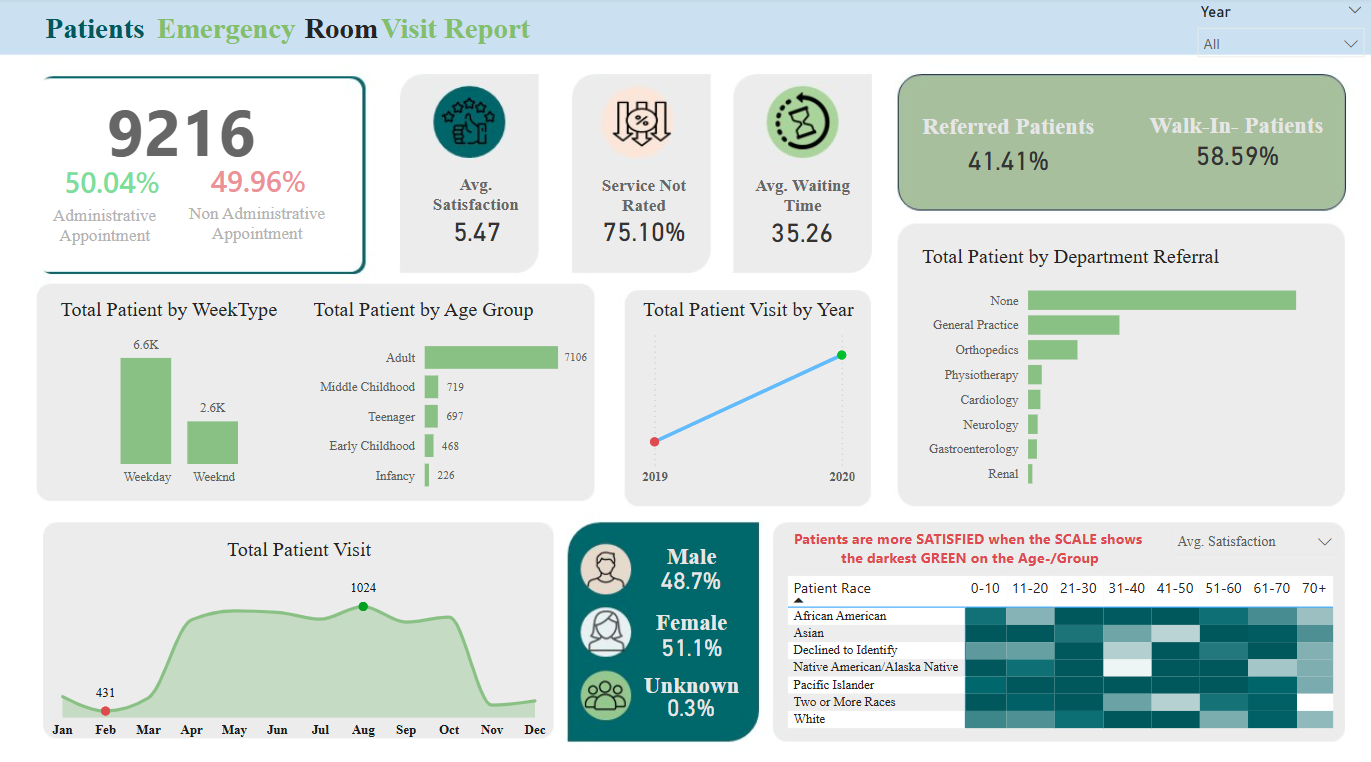

The dashboard page shown, as its layout file describes it:
{"tool":"powerbi","page":{"name":"Home","canvas":[1280,720],"ordinal":0},"visuals":[{"type":"card","fields":{"Values":["Measures (2).Total Patient"]},"box":[87.2,87.2,165.1,69.8],"z":0},{"type":"card","fields":{"Values":["Measures (2).Administrative Schedule"]},"box":[50,158.1,110.5,30.2],"z":1000},{"type":"card","fields":{"Values":["Measures (2).Non-Administrative Schedule"]},"box":[186,157,110.5,30.2],"z":2000},{"type":"card","fields":{"Values":["Measures (2).Average Satisfaction Score"]},"box":[409.3,202.3,69.8,30.2],"z":3000},{"type":"card","fields":{"Values":["Measures (2).% No Ratings"]},"box":[551.2,200,97.7,34.9],"z":4000},{"type":"card","fields":{"Values":["Measures (2).Average Wait Time"]},"box":[703.5,202.3,87.2,32.6],"z":5000},{"type":"pivotTable","fields":{"Values":["Measures (2).Average Wait Time"],"Rows":["Patient Dataset.patient_race"],"Columns":["Patient Dataset.Age Buckets"]},"box":[729.1,533.7,532.6,155.8],"z":6000},{"type":"slicer","fields":{"Values":["Parameter1.Parameter1"]},"box":[1080.2,482.6,175.6,45.3],"z":7000},{"type":"areaChart","title":"Total Patient Visit","fields":{"Category":["Date Table.Month"],"Y":["Measures (2).Value Max Poin (month)","Measures (2).Total Patient"]},"box":[38.4,503.5,481.4,193],"z":8000},{"type":"lineChart","title":"Total Patient Visit by Year","fields":{"Y":["Measures (2).Value Max Poin (year)","Measures (2).Total Patient"],"Category":["Date Table.Year"]},"box":[593,280.2,208.1,181.4],"z":9000},{"type":"slicer","fields":{"Values":["Date Table.Year"]},"box":[1104.6,0,175.6,64.5],"z":10000},{"type":"clusteredBarChart","title":"Total Patient by Department Referral","fields":{"Y":["Measures (2).Total Patient"],"Category":["Patient Dataset.department_referral"]},"box":[853.5,230.2,386,237.2],"z":11000},{"type":"card","fields":{"Values":["Measures (2).% Referred Patient"]},"box":[887.2,130.2,103.5,43],"z":12000},{"type":"card","fields":{"Values":["Measures (2).% Un Referred Patient"]},"box":[1105.8,131.4,91.9,31.4],"z":13000},{"type":"card","fields":{"Values":["Measures (2).Heatmap Caption"]},"box":[720.9,482.6,365.1,55.8],"z":14000},{"type":"textbox","box":[36,189.5,124.4,47.7],"z":15000},{"type":"textbox","box":[166.3,187.2,147.7,50],"z":16000},{"type":"textbox","box":[389.5,160.5,108.1,48.8],"z":17000},{"type":"textbox","box":[546.5,161.6,107,47.7],"z":18000},{"type":"textbox","box":[694.2,161.6,107,47.7],"z":19000},{"type":"textbox","box":[1054.7,102.3,193,47.7],"z":20000},{"type":"textbox","box":[847.7,103.5,182.6,44.2],"z":21000},{"type":"columnChart","fields":{"Category":["Date Table.WeekType"],"Y":["Measures (2).Total Patient"]},"box":[52.3,280.2,233.7,181.4],"z":22000},{"type":"clusteredBarChart","title":"Total Patient by Age Group","fields":{"Y":["Measures (2).Total Patient"],"Category":["Patient Dataset.Age Group"]},"box":[287.2,280.2,265.1,191.9],"z":23000},{"type":"card","fields":{"Values":["Measures (2).% Female Visit"]},"box":[600,518.6,87.2,47.7],"z":24000},{"type":"card","fields":{"Values":["Measures (2).% Unknown"]},"box":[602.3,639.5,82.6,43],"z":25000},{"type":"card","fields":{"Values":["Measures (2).% Male Visit"]},"box":[597.7,583.7,93,43],"z":26000},{"type":"textbox","box":[38.4,9.3,110.5,45.3],"z":27000},{"type":"textbox","box":[141.9,9.3,151.2,45.3],"z":28000},{"type":"textbox","box":[279.1,9.3,94.2,45.3],"z":29000},{"type":"textbox","box":[350,9.3,243,45.3],"z":30000},{"type":"textbox","box":[593,503.5,102.3,37.2],"z":30001},{"type":"textbox","box":[593,565.1,102.3,38.4],"z":30002},{"type":"textbox","box":[586,623.3,116.3,45.3],"z":30003}]}

Visuals, with their boxes in screenshot pixels (x1, y1, x2, y2), scaled from the page's 1280x720 canvas onto the 1371x762 screenshot:
card - Measures (2).Total Patient: [93, 92, 270, 166]
card - Measures (2).Administrative Schedule: [54, 167, 172, 199]
card - Measures (2).Non-Administrative Schedule: [199, 166, 318, 198]
card - Measures (2).Average Satisfaction Score: [438, 214, 513, 246]
card - Measures (2).% No Ratings: [590, 212, 695, 249]
card - Measures (2).Average Wait Time: [754, 214, 847, 249]
pivotTable - Measures (2).Average Wait Time x Patient Dataset.patient_race: [781, 565, 1351, 730]
slicer - Parameter1.Parameter1: [1157, 511, 1345, 559]
"Total Patient Visit" areaChart: [41, 533, 557, 737]
"Total Patient Visit by Year" lineChart: [635, 297, 858, 489]
slicer - Date Table.Year: [1183, 0, 1370, 68]
"Total Patient by Department Referral" clusteredBarChart: [914, 244, 1328, 495]
card - Measures (2).% Referred Patient: [950, 138, 1061, 183]
card - Measures (2).% Un Referred Patient: [1184, 139, 1283, 172]
card - Measures (2).Heatmap Caption: [772, 511, 1163, 570]
textbox: [39, 201, 172, 251]
textbox: [178, 198, 336, 251]
textbox: [417, 170, 533, 222]
textbox: [585, 171, 700, 222]
textbox: [744, 171, 858, 222]
textbox: [1130, 108, 1336, 159]
textbox: [908, 110, 1104, 156]
columnChart - Date Table.WeekType x Measures (2).Total Patient: [56, 297, 306, 489]
"Total Patient by Age Group" clusteredBarChart: [308, 297, 592, 500]
card - Measures (2).% Female Visit: [643, 549, 736, 599]
card - Measures (2).% Unknown: [645, 677, 734, 722]
card - Measures (2).% Male Visit: [640, 618, 740, 663]
textbox: [41, 10, 159, 58]
textbox: [152, 10, 314, 58]
textbox: [299, 10, 400, 58]
textbox: [375, 10, 635, 58]
textbox: [635, 533, 745, 572]
textbox: [635, 598, 745, 639]
textbox: [628, 660, 752, 708]
